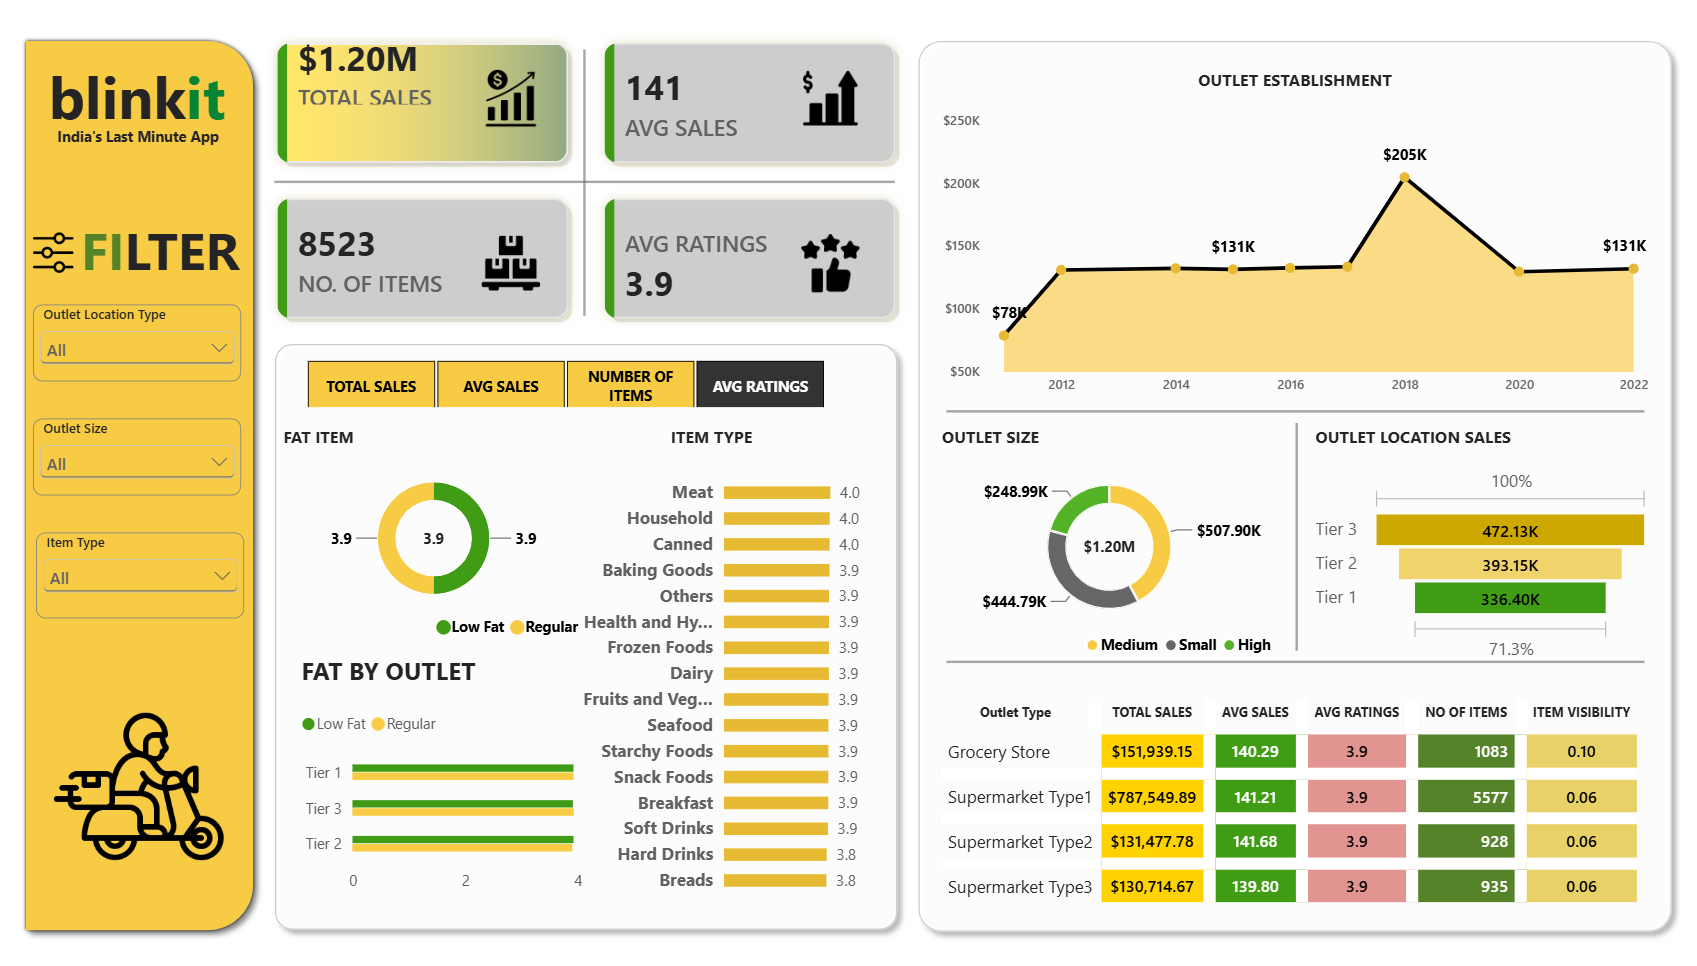

What the dashboard file says about the page in this screenshot:
{"tool":"powerbi","page":{"name":"Page 1","canvas":[1400,800],"ordinal":0},"visuals":[{"type":"shape","box":[14.5,24.8,205,750],"z":0},{"type":"textbox","box":[30,46,171.4,65.4],"z":1000},{"type":"textbox","box":[14.1,100.7,205,21.2],"z":2000},{"type":"cardVisual","fields":{"Data":["ALL MEASURES.TOTAL SALES","ALL MEASURES.AVG SALES","ALL MEASURES.NUMBER OF ITEMS","ALL MEASURES.AVG RATINGS"]},"box":[219.2,24.7,530.2,249.2],"z":3000},{"type":"image","box":[395.9,56.6,53,47.7],"z":4000},{"type":"image","box":[659.2,192.6,53,47.7],"z":5000},{"type":"image","box":[659.2,56.6,53,47.7],"z":6000},{"type":"image","box":[395.9,192.6,53,47.7],"z":7000},{"type":"shape","box":[219.2,273.9,530.2,500.2],"z":8000},{"type":"slicer","title":"FAT CONTENT","fields":{"Values":["BlinkIT Grocery Data.Outlet Location Type"]},"box":[30,251,171.4,63.6],"z":9000},{"type":"slicer","fields":{"Values":["METRIC.METRIC"]},"box":[235.1,295.1,465,40],"z":10000},{"type":"clusteredBarChart","title":"FAT BY OUTLET","fields":{"Category":["BlinkIT Grocery Data.Outlet Location Type"],"Series":["BlinkIT Grocery Data.Item Fat Content"],"Y":["ALL MEASURES.AVG RATINGS"]},"box":[235.1,524.9,263.3,229.8],"z":11000},{"type":"barChart","title":"ITEM TYPE","fields":{"Category":["BlinkIT Grocery Data.Item Type"],"Y":["ALL MEASURES.AVG RATINGS"]},"box":[448.9,335.8,277.5,418.9],"z":12000},{"type":"shape","box":[749.4,24.7,638,751.1],"z":13000},{"type":"lineChart","title":"OUTLET ESTABLISHMENT","fields":{"Category":["BlinkIT Grocery Data.Outlet Establishment Year"],"Y":["ALL MEASURES.TOTAL SALES"]},"box":[761.7,42.4,613.3,302.2],"z":14000},{"type":"donutChart","title":"OUTLET SIZE","fields":{"Category":["BlinkIT Grocery Data.Outlet Size"],"Y":["ALL MEASURES.TOTAL SALES"]},"box":[761.7,335.8,307.5,224.5],"z":15000},{"type":"funnel","title":"OUTLET LOCATION SALES","fields":{"Category":["BlinkIT Grocery Data.Outlet Location Type"],"Y":["Sum(BlinkIT Grocery Data.Sales)"]},"box":[1069.2,335.8,307.5,224.5],"z":16000},{"type":"shape","box":[781.2,273.9,574.4,129],"z":17000},{"type":"shape","box":[1055.1,348.2,28.3,187.3],"z":18000},{"type":"shape","box":[781.2,480.7,574.4,129],"z":19000},{"type":"shape","box":[228,84.8,510.8,129],"z":20000},{"type":"shape","box":[196.2,40.6,574.4,219.2],"z":21000},{"type":"pivotTable","fields":{"Rows":["BlinkIT Grocery Data.Outlet Type"],"Values":["ALL MEASURES.TOTAL SALES","ALL MEASURES.AVG SALES","ALL MEASURES.AVG RATINGS","ALL MEASURES.NUMBER OF ITEMS","Avg(BlinkIT Grocery Data.Item Visibility)"]},"box":[761.7,560.2,616.8,212.1],"z":22000},{"type":"slicer","title":"FAT CONTENT","fields":{"Values":["BlinkIT Grocery Data.Outlet Size"]},"box":[30,344.6,171.4,63.6],"z":23000},{"type":"slicer","title":"FAT CONTENT","fields":{"Values":["BlinkIT Grocery Data.Item Type"]},"box":[31.8,438.3,171.4,70.7],"z":24000},{"type":"donutChart","title":"FAT ITEM","fields":{"Category":["BlinkIT Grocery Data.Item Fat Content"],"Y":["ALL MEASURES.AVG RATINGS"]},"box":[219.2,335.8,279.2,210.3],"z":25000},{"type":"image","box":[44.2,574.4,146.7,153.8],"z":26000},{"type":"image","box":[30,150.2,33.6,114.9],"z":27000},{"type":"textbox","box":[68.9,176.7,150.2,61.9],"z":28000}]}

Visuals, with their boxes in screenshot pixels (x1, y1, x2, y2), scaled from the page's 1400x800 canvas onto the 1697x966 screenshot:
shape: left=18, top=30, right=266, bottom=936
textbox: left=36, top=56, right=244, bottom=135
textbox: left=17, top=122, right=266, bottom=147
cardVisual - ALL MEASURES.TOTAL SALES x ALL MEASURES.AVG SALES: left=266, top=30, right=908, bottom=331
image: left=480, top=68, right=544, bottom=126
image: left=799, top=233, right=863, bottom=290
image: left=799, top=68, right=863, bottom=126
image: left=480, top=233, right=544, bottom=290
shape: left=266, top=331, right=908, bottom=935
"FAT CONTENT" slicer: left=36, top=303, right=244, bottom=380
slicer - METRIC.METRIC: left=285, top=356, right=849, bottom=405
"FAT BY OUTLET" clusteredBarChart: left=285, top=634, right=604, bottom=911
"ITEM TYPE" barChart: left=544, top=405, right=881, bottom=911
shape: left=908, top=30, right=1682, bottom=937
"OUTLET ESTABLISHMENT" lineChart: left=923, top=51, right=1667, bottom=416
"OUTLET SIZE" donutChart: left=923, top=405, right=1296, bottom=677
"OUTLET LOCATION SALES" funnel: left=1296, top=405, right=1669, bottom=677
shape: left=947, top=331, right=1643, bottom=487
shape: left=1279, top=420, right=1313, bottom=647
shape: left=947, top=580, right=1643, bottom=736
shape: left=276, top=102, right=896, bottom=258
shape: left=238, top=49, right=934, bottom=314
pivotTable - BlinkIT Grocery Data.Outlet Type x ALL MEASURES.TOTAL SALES: left=923, top=676, right=1671, bottom=933
"FAT CONTENT" slicer: left=36, top=416, right=244, bottom=493
"FAT CONTENT" slicer: left=39, top=529, right=246, bottom=615
"FAT ITEM" donutChart: left=266, top=405, right=604, bottom=659
image: left=54, top=694, right=231, bottom=879
image: left=36, top=181, right=77, bottom=320
textbox: left=84, top=213, right=266, bottom=288
